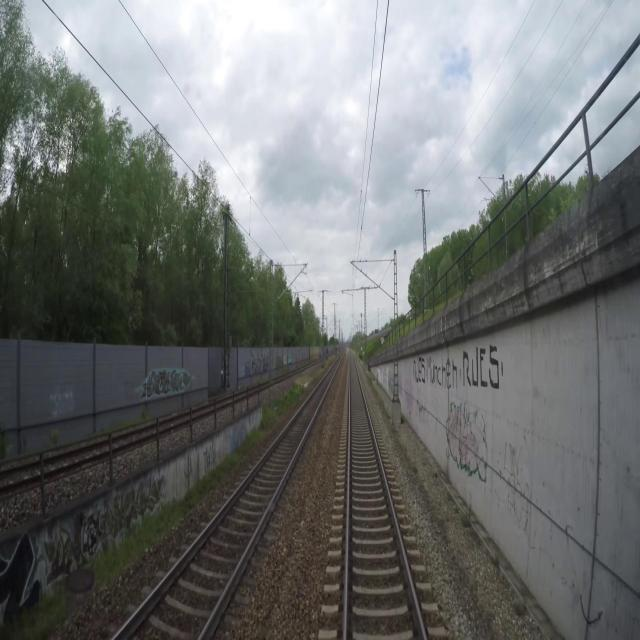rail-track: (117, 366, 335, 639), (347, 358, 422, 639)
